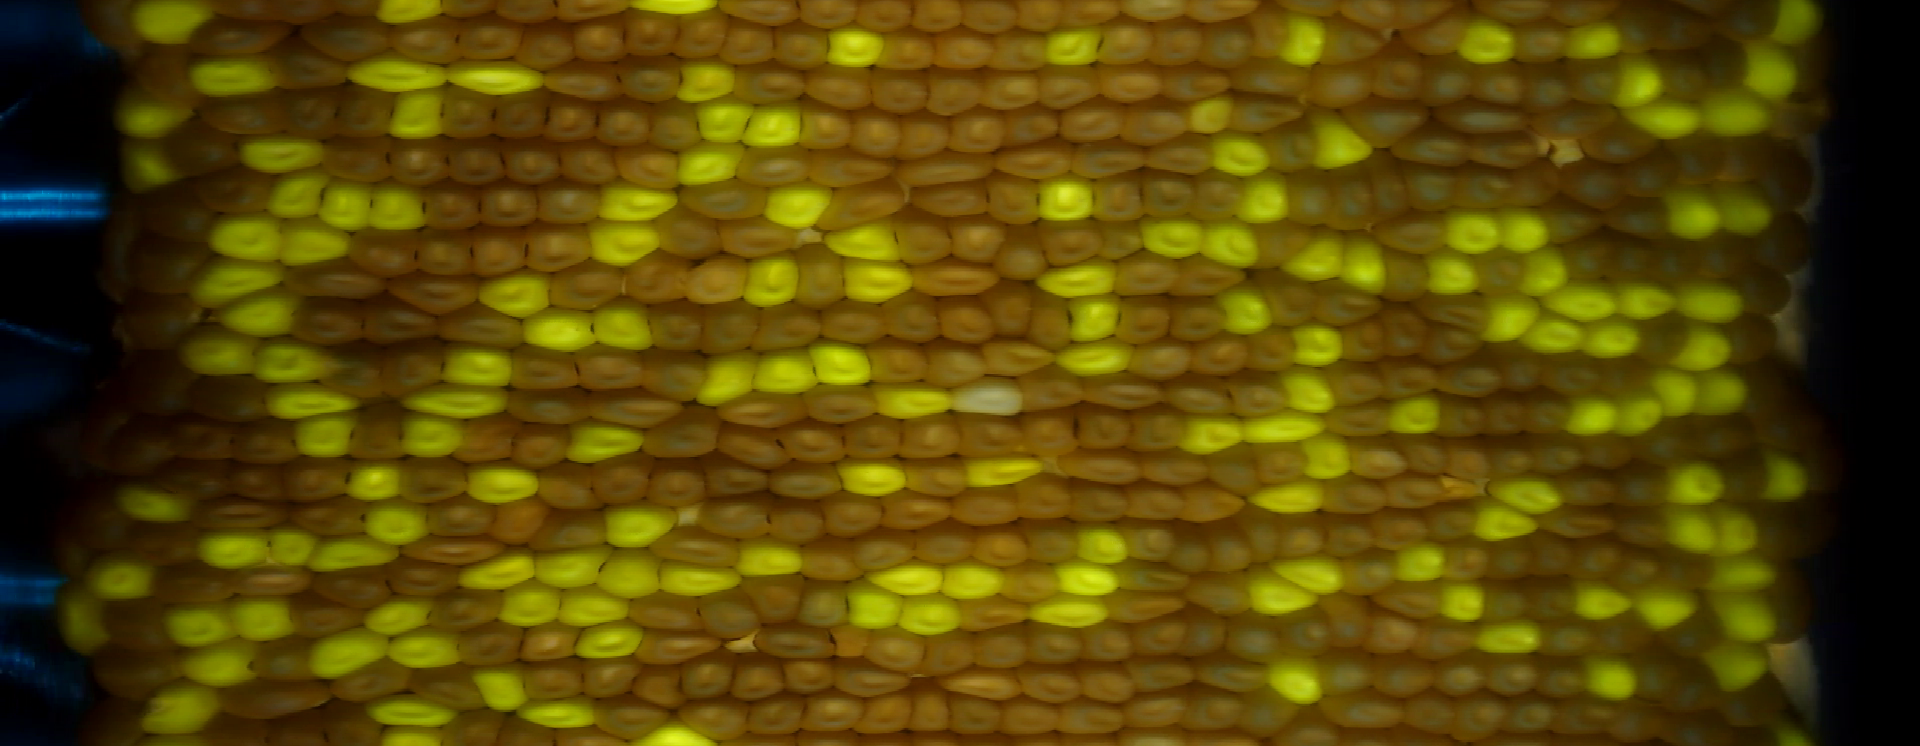fluorescent: (399, 374, 517, 428), (340, 44, 456, 97), (135, 677, 240, 734), (440, 48, 550, 99), (276, 208, 360, 274), (171, 643, 276, 695), (1693, 82, 1778, 143), (258, 333, 350, 390), (171, 325, 263, 380), (696, 349, 776, 412), (305, 630, 404, 680), (1308, 100, 1378, 171), (193, 256, 291, 306), (1734, 37, 1804, 107), (580, 209, 665, 267), (516, 299, 602, 354), (470, 262, 553, 318), (202, 211, 289, 265), (598, 497, 682, 552), (227, 132, 338, 174), (589, 292, 658, 359), (596, 171, 683, 223), (460, 456, 547, 507), (820, 217, 909, 267), (756, 339, 824, 403), (1442, 203, 1517, 261), (365, 170, 431, 235), (814, 22, 898, 73), (1662, 183, 1730, 245), (438, 334, 514, 391), (1491, 465, 1569, 521), (230, 587, 302, 646), (218, 287, 302, 337), (381, 624, 471, 670), (189, 53, 284, 97), (1204, 281, 1281, 334), (1040, 254, 1127, 301), (808, 330, 878, 388), (947, 369, 1022, 423), (1209, 122, 1273, 185), (462, 550, 549, 597), (267, 167, 336, 225), (257, 381, 360, 420), (869, 379, 951, 428), (564, 416, 645, 465), (1277, 360, 1344, 419), (1247, 565, 1320, 619), (133, 1, 220, 47), (310, 532, 402, 575), (163, 598, 241, 648), (394, 413, 476, 461), (1033, 171, 1104, 227), (951, 453, 1049, 492), (1236, 404, 1333, 443), (1340, 230, 1393, 301), (1476, 492, 1547, 546), (677, 51, 741, 111), (528, 544, 610, 590), (838, 254, 913, 304), (1453, 13, 1520, 71), (1720, 583, 1778, 649), (1671, 325, 1745, 376), (310, 178, 378, 233), (1176, 408, 1247, 461), (651, 556, 741, 598), (1273, 548, 1349, 597), (465, 661, 541, 710), (1418, 245, 1487, 299), (1135, 209, 1209, 260), (1682, 274, 1745, 333), (1580, 649, 1642, 708), (65, 595, 120, 661), (1476, 296, 1549, 345), (115, 481, 189, 530), (1282, 224, 1344, 282), (905, 588, 970, 643), (760, 178, 835, 225), (288, 412, 362, 459), (731, 533, 802, 583), (118, 145, 189, 194), (740, 102, 814, 148), (864, 559, 950, 599), (1717, 183, 1776, 241), (842, 577, 900, 637), (1384, 382, 1445, 439), (389, 88, 452, 143), (1619, 274, 1681, 330), (1298, 429, 1362, 483), (836, 454, 910, 501), (121, 97, 203, 138), (1204, 219, 1262, 277), (744, 254, 802, 312), (1060, 288, 1119, 345), (557, 583, 633, 627), (1625, 97, 1704, 138), (334, 457, 405, 503), (596, 551, 667, 598), (517, 696, 600, 735), (675, 141, 744, 187), (1615, 48, 1670, 107), (1239, 170, 1294, 229), (1760, 448, 1820, 502), (696, 92, 757, 145), (493, 578, 564, 624), (1709, 550, 1787, 592), (1269, 650, 1331, 702), (1509, 249, 1573, 298), (1054, 339, 1135, 379), (1524, 309, 1591, 356), (939, 557, 1008, 603), (1642, 579, 1700, 633), (1496, 208, 1558, 258), (1042, 20, 1104, 69), (366, 499, 429, 548), (1033, 590, 1107, 632), (93, 555, 157, 603), (1278, 9, 1325, 73), (1658, 364, 1708, 424), (1283, 320, 1349, 365), (1693, 370, 1756, 418), (202, 530, 276, 571), (1071, 519, 1130, 570), (1667, 461, 1731, 506), (1581, 316, 1642, 364), (1562, 16, 1625, 62), (1251, 480, 1329, 517), (1478, 619, 1547, 659), (1555, 281, 1618, 325), (1057, 560, 1123, 601), (1562, 391, 1620, 439), (1709, 644, 1766, 692), (371, 597, 441, 635), (269, 524, 320, 576), (1713, 506, 1764, 556), (1667, 506, 1724, 550), (576, 619, 644, 655), (1576, 577, 1630, 624), (1771, 1, 1826, 47), (1191, 96, 1249, 138), (1618, 393, 1671, 439), (1397, 543, 1457, 581), (1441, 575, 1487, 625), (376, 2, 449, 29)
nonfluorescent: (118, 38, 207, 113), (288, 250, 397, 303), (362, 290, 451, 353), (125, 361, 207, 428), (1555, 156, 1642, 217), (621, 244, 697, 314), (410, 659, 500, 718), (98, 587, 175, 654), (298, 12, 398, 64), (811, 178, 913, 228), (115, 296, 204, 354), (223, 677, 336, 723), (88, 648, 182, 702), (440, 296, 528, 354), (189, 486, 291, 535), (572, 339, 655, 399), (266, 40, 362, 92), (186, 375, 278, 429), (345, 394, 420, 461), (556, 265, 649, 317), (680, 171, 779, 220), (757, 616, 846, 670), (131, 239, 224, 290), (584, 693, 676, 745), (533, 457, 615, 514), (639, 402, 718, 462), (347, 224, 433, 278), (588, 454, 675, 508), (1400, 156, 1473, 219), (377, 339, 457, 398), (315, 559, 399, 614), (287, 295, 369, 352), (498, 413, 580, 469), (405, 530, 509, 575), (1461, 246, 1540, 304), (451, 405, 519, 472), (640, 345, 711, 409), (580, 386, 686, 429), (502, 385, 596, 432), (1491, 339, 1565, 401), (198, 162, 282, 216), (909, 260, 1010, 304), (1760, 503, 1840, 559), (809, 145, 907, 190), (640, 529, 749, 570), (1341, 97, 1433, 145), (1693, 401, 1761, 465), (654, 201, 722, 265), (610, 137, 697, 187), (152, 556, 236, 608), (817, 296, 899, 349), (147, 176, 220, 235), (1352, 575, 1450, 619), (435, 82, 509, 140), (1151, 369, 1231, 423), (229, 409, 298, 472), (884, 288, 955, 348), (203, 87, 284, 140), (902, 143, 1002, 186), (92, 420, 165, 478), (1367, 503, 1445, 557), (1118, 96, 1194, 151), (413, 230, 489, 285), (198, 13, 288, 60), (779, 413, 856, 467), (284, 598, 371, 646), (276, 87, 342, 149), (456, 4, 523, 65), (714, 420, 793, 472), (323, 134, 400, 186), (1255, 266, 1319, 330), (1467, 51, 1528, 118), (992, 138, 1084, 183), (887, 212, 960, 267), (513, 338, 587, 393), (978, 167, 1046, 227), (1060, 445, 1145, 492), (230, 554, 315, 601), (620, 586, 704, 633), (898, 178, 994, 219), (1135, 441, 1217, 490), (558, 140, 638, 190), (388, 13, 460, 69), (1360, 149, 1416, 222), (1209, 437, 1270, 502), (807, 60, 884, 111), (942, 293, 1008, 353), (827, 488, 894, 546), (517, 657, 598, 706), (539, 58, 626, 103), (1319, 690, 1411, 733), (296, 491, 371, 544), (1658, 601, 1733, 654), (866, 64, 936, 120), (1467, 125, 1551, 171), (956, 409, 1026, 465), (1733, 677, 1802, 734), (714, 214, 808, 256), (1108, 247, 1184, 299), (771, 17, 834, 80), (1228, 609, 1293, 669), (702, 293, 760, 359), (945, 103, 1013, 160), (793, 243, 850, 311), (1757, 398, 1826, 454), (1368, 51, 1438, 107), (1313, 274, 1382, 330), (402, 448, 471, 503), (1304, 56, 1379, 108), (969, 624, 1040, 677), (1396, 6, 1472, 56), (1719, 124, 1777, 190), (678, 693, 751, 746), (497, 134, 571, 185), (1371, 211, 1457, 255), (1124, 334, 1198, 386), (1319, 507, 1387, 562), (798, 686, 867, 741), (283, 456, 358, 506), (1138, 162, 1198, 224), (898, 408, 958, 470), (1092, 12, 1156, 71), (1667, 127, 1730, 186), (1309, 472, 1387, 519), (387, 555, 465, 603), (1549, 233, 1620, 285), (1321, 167, 1379, 232), (738, 146, 823, 190), (1245, 218, 1318, 269), (642, 462, 714, 513), (1309, 646, 1381, 697), (1635, 416, 1702, 472), (762, 303, 830, 356), (720, 390, 814, 429), (1209, 513, 1262, 582), (1255, 440, 1329, 490), (913, 513, 983, 566), (1420, 323, 1504, 367), (962, 480, 1025, 539), (1128, 397, 1191, 454), (140, 518, 220, 563), (1071, 398, 1136, 454), (1280, 160, 1331, 232), (1258, 122, 1329, 174), (1026, 285, 1078, 356), (468, 229, 539, 281), (924, 64, 992, 118), (898, 99, 951, 167), (1540, 350, 1613, 401), (1089, 64, 1184, 102), (849, 524, 924, 572), (1184, 687, 1260, 735), (1167, 295, 1236, 348), (1391, 125, 1471, 170), (1086, 366, 1166, 412), (797, 96, 857, 156), (591, 97, 654, 154), (793, 535, 868, 583), (418, 491, 489, 541), (1234, 54, 1313, 99), (1013, 364, 1091, 409), (512, 18, 579, 71), (798, 382, 891, 420), (1379, 303, 1438, 363), (1347, 439, 1416, 490), (703, 586, 762, 646), (1020, 469, 1081, 527), (78, 496, 140, 554), (1315, 592, 1376, 649), (1051, 212, 1107, 274), (1173, 257, 1258, 299), (493, 496, 557, 551), (912, 628, 986, 676), (649, 89, 703, 154), (738, 61, 816, 107), (1127, 653, 1204, 698), (1720, 314, 1787, 366), (1763, 140, 1812, 211), (424, 590, 502, 635), (994, 225, 1054, 283), (1277, 506, 1335, 566), (883, 486, 951, 537), (898, 456, 971, 502), (1198, 650, 1271, 697), (1191, 16, 1256, 69), (687, 653, 752, 706), (389, 146, 467, 190), (1442, 356, 1520, 401), (1407, 612, 1484, 657), (1187, 337, 1258, 385), (1161, 62, 1236, 108), (324, 345, 382, 404), (871, 24, 938, 75), (1656, 233, 1712, 293), (673, 9, 729, 70), (1062, 96, 1123, 151), (567, 17, 629, 71), (620, 55, 688, 104), (336, 85, 399, 137), (955, 592, 1029, 637), (497, 87, 556, 143), (1640, 311, 1698, 367), (844, 104, 904, 159), (1335, 552, 1412, 595), (1518, 58, 1580, 111), (1188, 169, 1249, 223), (775, 653, 842, 702), (841, 413, 904, 465), (752, 571, 804, 633), (338, 657, 407, 704), (1229, 88, 1302, 134), (770, 462, 853, 501), (458, 619, 523, 669), (1071, 138, 1157, 176), (702, 456, 778, 499), (168, 418, 238, 464), (746, 688, 803, 745), (1113, 554, 1187, 598), (867, 622, 926, 677), (1656, 48, 1709, 108), (1326, 16, 1389, 67), (587, 696, 673, 733), (720, 17, 776, 73), (1096, 171, 1151, 229), (1381, 247, 1435, 306), (1539, 203, 1618, 244), (629, 657, 688, 710), (546, 506, 612, 554), (1020, 412, 1082, 462), (531, 225, 599, 272), (634, 625, 722, 660), (696, 502, 775, 541), (926, 345, 1003, 386), (1238, 697, 1315, 737), (1108, 587, 1183, 628), (1498, 160, 1566, 206), (1453, 159, 1510, 214), (1716, 450, 1771, 506), (949, 214, 1010, 265), (947, 660, 1022, 701), (688, 258, 751, 307), (1778, 567, 1815, 650), (624, 9, 678, 65), (1605, 233, 1657, 292), (1231, 376, 1299, 420), (1587, 122, 1667, 160), (867, 345, 942, 386), (1417, 58, 1478, 107), (1483, 579, 1544, 628), (451, 145, 517, 190), (839, 661, 915, 701), (863, 687, 918, 741), (541, 96, 598, 148), (1325, 365, 1389, 412), (1020, 624, 1084, 670), (933, 22, 991, 73), (1762, 214, 1813, 272), (649, 303, 707, 354), (415, 187, 486, 229), (991, 28, 1049, 78), (587, 653, 647, 702), (1242, 508, 1289, 570), (1436, 103, 1536, 132), (1435, 288, 1498, 334), (525, 620, 588, 666), (1591, 611, 1660, 653), (1679, 665, 1734, 718), (1118, 299, 1176, 349), (1003, 100, 1062, 149), (1133, 617, 1191, 666), (802, 579, 850, 639), (1191, 576, 1258, 619), (1484, 657, 1547, 702), (1549, 503, 1619, 544), (1529, 619, 1599, 659), (1572, 55, 1630, 104), (1581, 428, 1638, 477), (536, 186, 600, 230), (970, 523, 1033, 567), (1363, 612, 1427, 657), (1624, 156, 1691, 197), (1147, 135, 1218, 174), (1079, 619, 1140, 664), (1324, 404, 1404, 439), (1135, 481, 1187, 535), (1058, 692, 1127, 733), (1379, 657, 1447, 697), (1479, 533, 1536, 582), (1630, 646, 1679, 702), (978, 70, 1044, 111), (1702, 229, 1746, 292), (1020, 523, 1086, 565), (991, 337, 1054, 380), (246, 635, 310, 677), (1164, 528, 1217, 579), (1439, 396, 1489, 450), (902, 687, 956, 737), (947, 691, 1004, 737), (1618, 699, 1675, 746), (1124, 684, 1187, 726), (1283, 609, 1333, 661), (988, 285, 1036, 341), (1618, 467, 1675, 512), (1242, 332, 1304, 374), (1184, 481, 1247, 523), (1381, 465, 1440, 510), (1081, 478, 1135, 526), (1082, 661, 1140, 706), (1744, 266, 1794, 316), (1441, 432, 1491, 483), (1523, 18, 1575, 67), (1398, 695, 1457, 737), (741, 654, 789, 707), (1133, 514, 1187, 561), (1040, 69, 1103, 108), (1558, 696, 1615, 739), (961, 2, 1026, 40), (236, 461, 287, 510), (1603, 354, 1662, 396), (768, 503, 830, 543), (1520, 392, 1573, 437), (1453, 702, 1509, 746), (1245, 4, 1288, 60), (1150, 16, 1200, 64), (1403, 434, 1453, 481), (1387, 365, 1462, 397), (1092, 218, 1146, 262), (1003, 698, 1063, 737), (1531, 435, 1587, 477), (1534, 659, 1591, 701), (1344, 317, 1391, 367), (486, 187, 544, 228), (1727, 4, 1789, 40), (1562, 470, 1618, 512), (1536, 578, 1591, 620), (1613, 508, 1673, 546), (1007, 567, 1060, 609), (1439, 661, 1494, 702), (1278, 714, 1348, 746), (1656, 12, 1716, 49), (1483, 390, 1526, 441), (1534, 532, 1575, 586), (1604, 11, 1651, 58), (1578, 538, 1626, 582), (1487, 439, 1536, 481), (438, 712, 500, 746), (1184, 608, 1223, 660), (1431, 502, 1480, 544), (913, 2, 972, 37), (173, 127, 233, 160), (1026, 671, 1084, 706), (182, 461, 239, 495), (1713, 44, 1753, 91), (1499, 697, 1558, 729), (1446, 539, 1488, 583), (800, 1, 862, 29), (1067, 4, 1127, 32), (1018, 2, 1067, 37), (496, 712, 545, 746), (862, 2, 913, 34), (1624, 546, 1665, 586), (1739, 374, 1788, 407), (1435, 470, 1484, 503), (1670, 561, 1720, 593), (833, 627, 878, 661)
